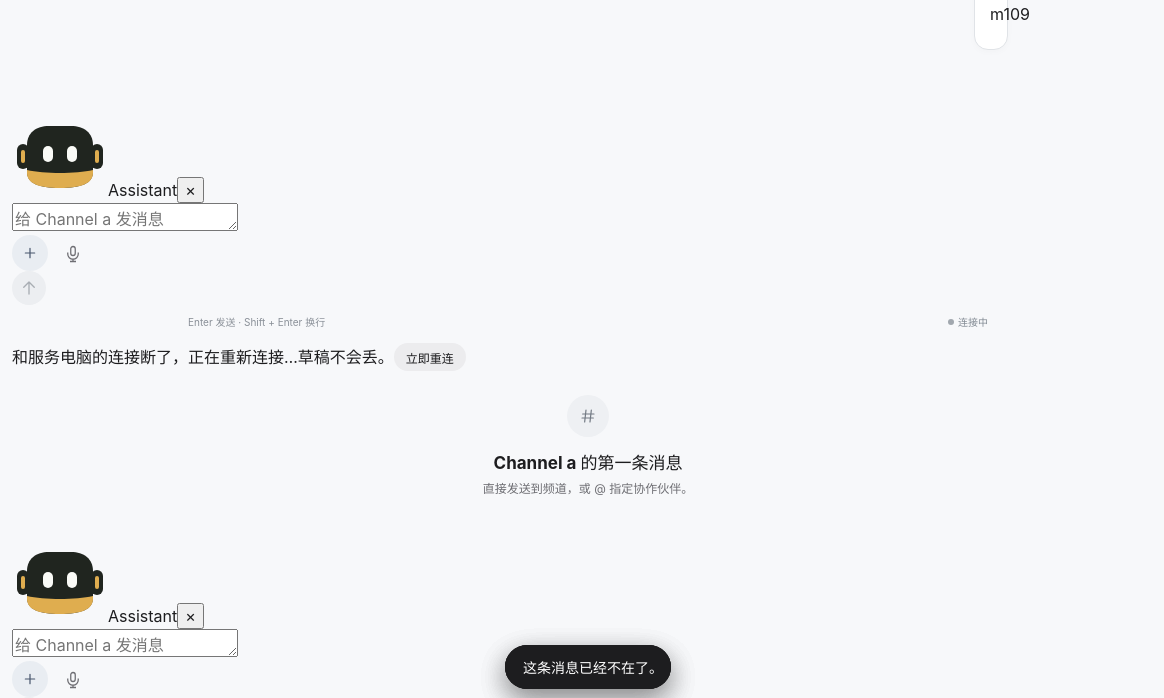
it: 23e: older pages, banners and the date cue › shows the reconnect banner while retrying, and 立即重连 restarts the connection
(page scrolled)
Expected: the message with class "is-warning" shows "草稿不会丢", [12,346,394,366]
Click the button "立即重连": click(430, 357) [394,343,466,371]
(page scrolled)
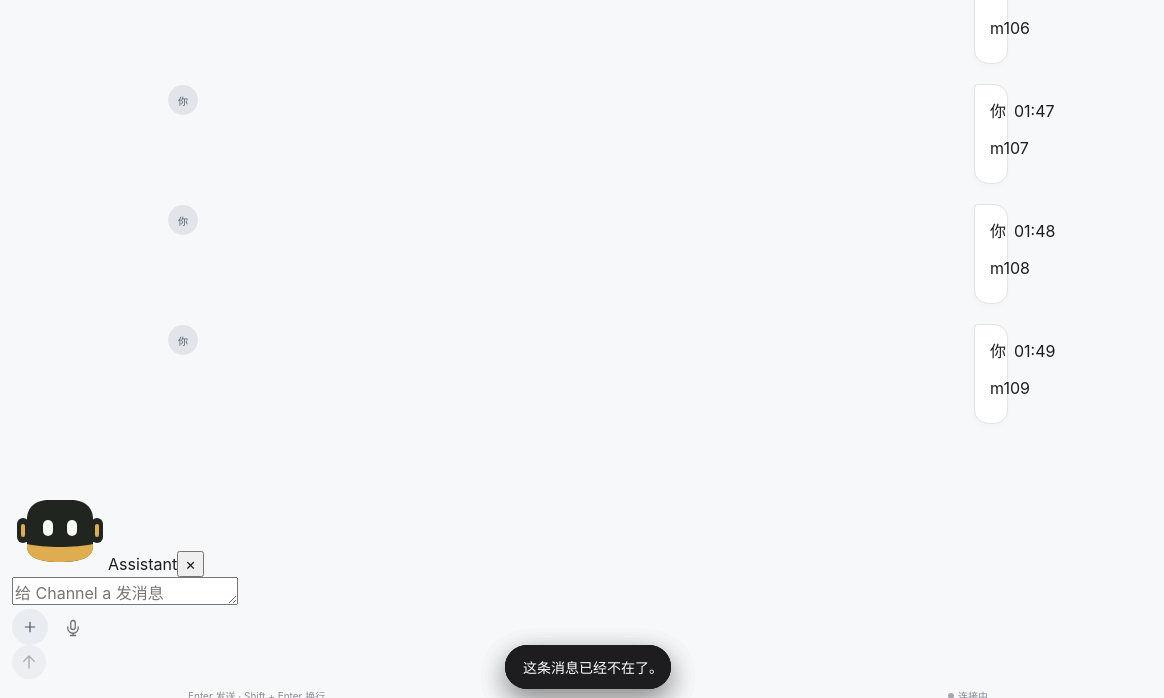
Now the message with class "conversation-banner" is gone
